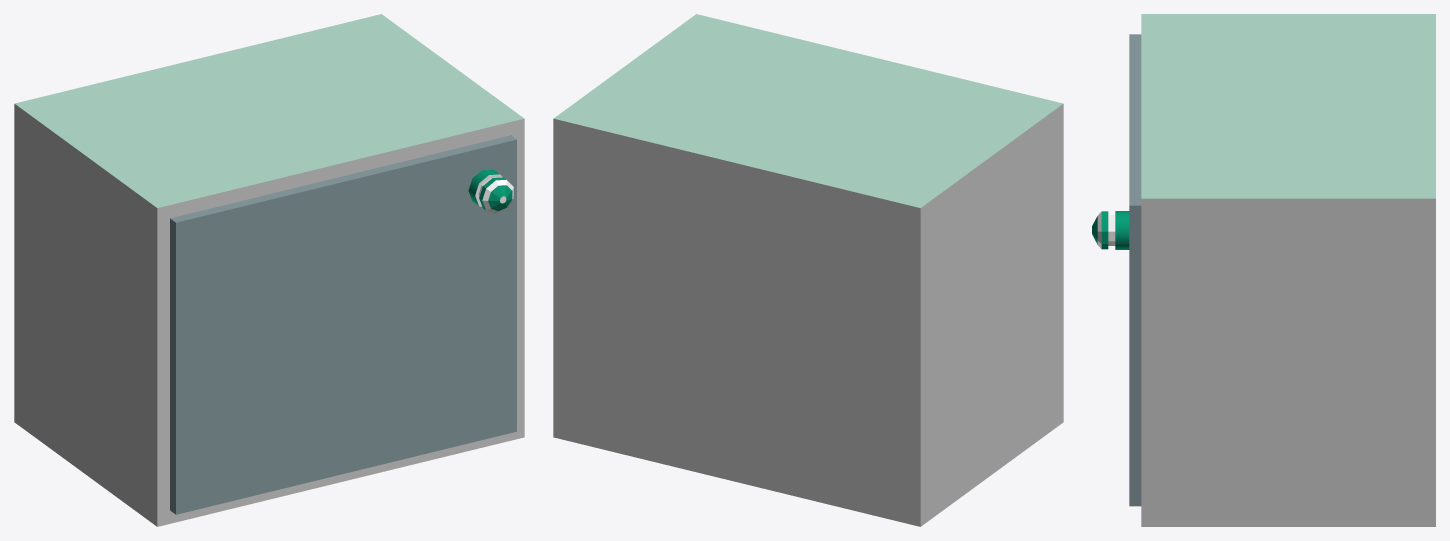
The model's file is Cabinet_Green_Lower.fbx.
3 renders of one model, left to right at view 1: azimuth 30°, elevation 25°; view 2: azimuth 150°, elevation 25°; view 3: azimuth 270°, elevation 25°, orthographic. The views are drawn at different scales.
Visible parts, largest first — view 1: Cabinet_Green_Lower, Cabinet_Green_Lower.001; view 2: Cabinet_Green_Lower; view 3: Cabinet_Green_Lower, Cabinet_Green_Lower.001.
Boxes of the visible parts, <box> form: Cabinet_Green_Lower: <box>14,14,524,526</box>; Cabinet_Green_Lower.001: <box>170,135,516,514</box>; Cabinet_Green_Lower: <box>553,14,1063,526</box>; Cabinet_Green_Lower: <box>1141,14,1435,526</box>; Cabinet_Green_Lower.001: <box>1092,34,1141,506</box>.
Bounding box in the file's own units: 100 × 82.98 × 78.75.
